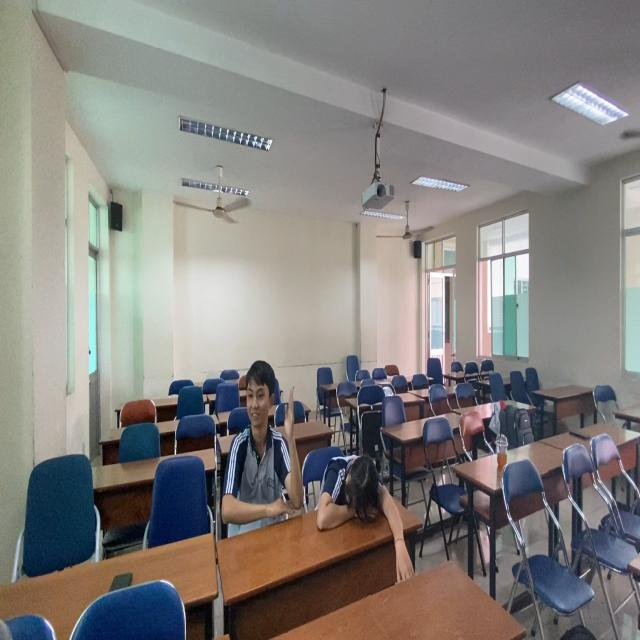raise_hand: (224, 363, 304, 530)
sleep: (312, 445, 412, 558)
